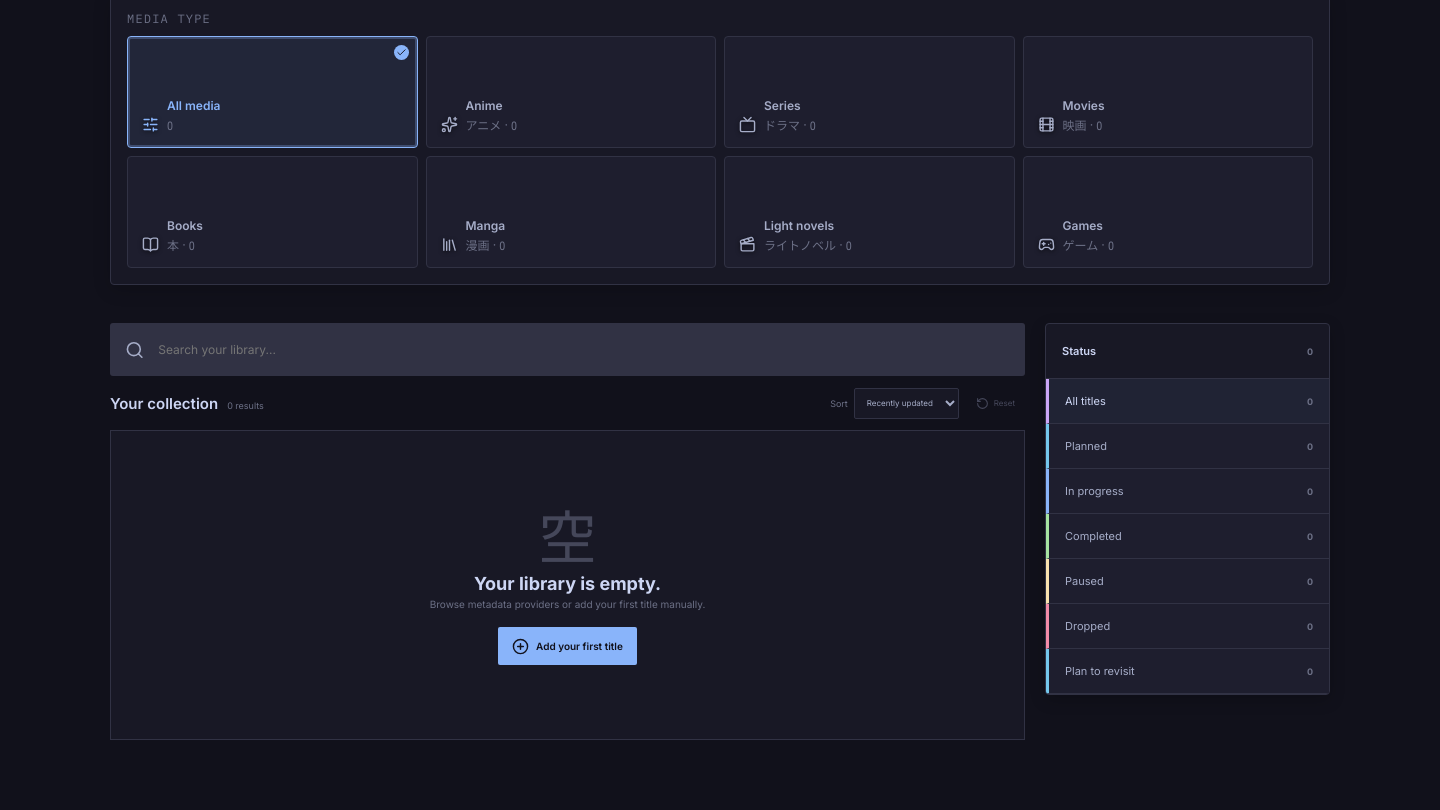
Test case: Library characterization › preserves empty-state and manual-add entry behavior
(page scrolled)
Expected: the heading "Your library is empty." is shown, x1=474 y1=573 x2=661 y2=594
Click the button "Add your first title": (568, 646) x1=498 y1=627 x2=637 y2=665
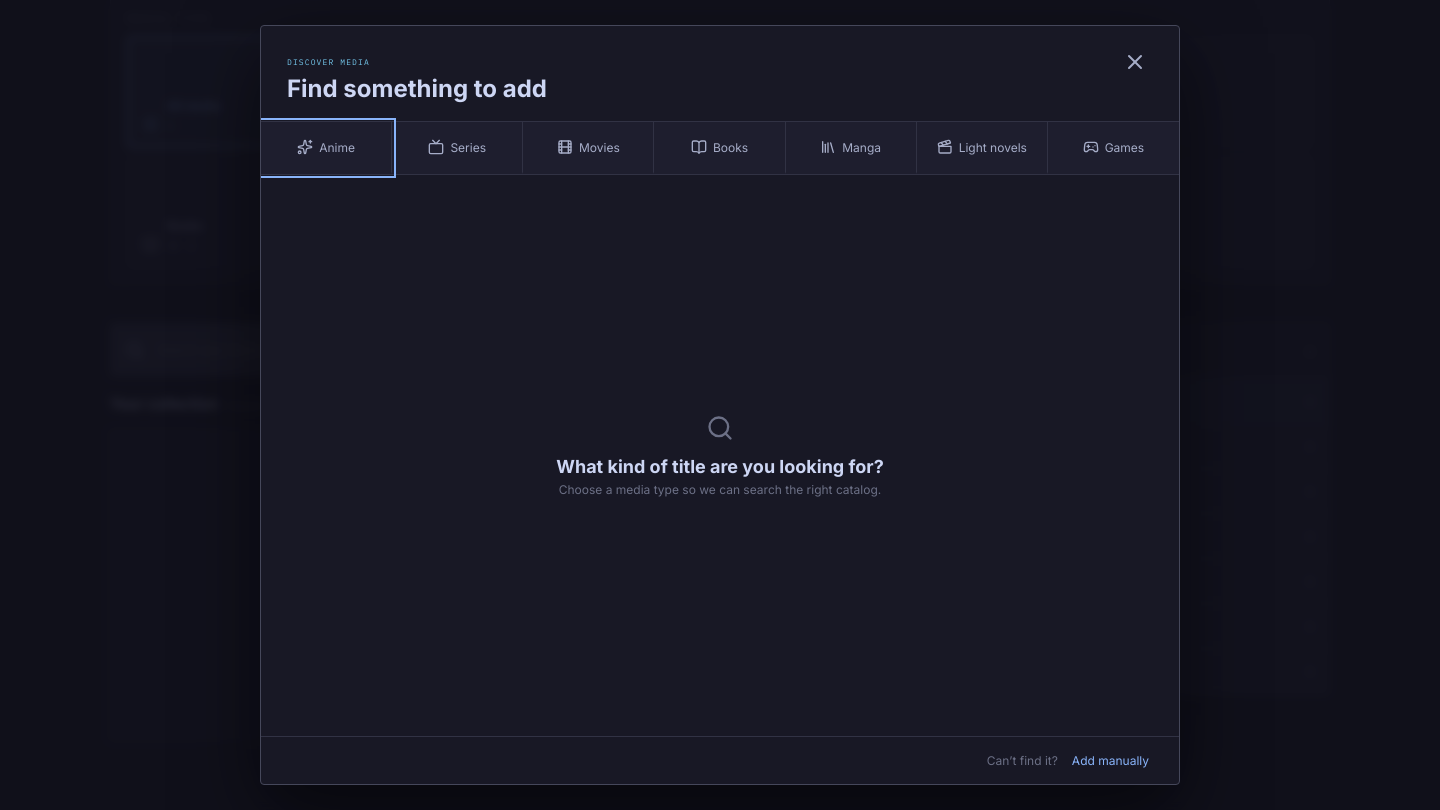
Expected: the dialog "Find something to add" is shown, x1=260 y1=25 x2=1180 y2=785
Click the button "Add manually": (1110, 760) x1=1066 y1=752 x2=1155 y2=769
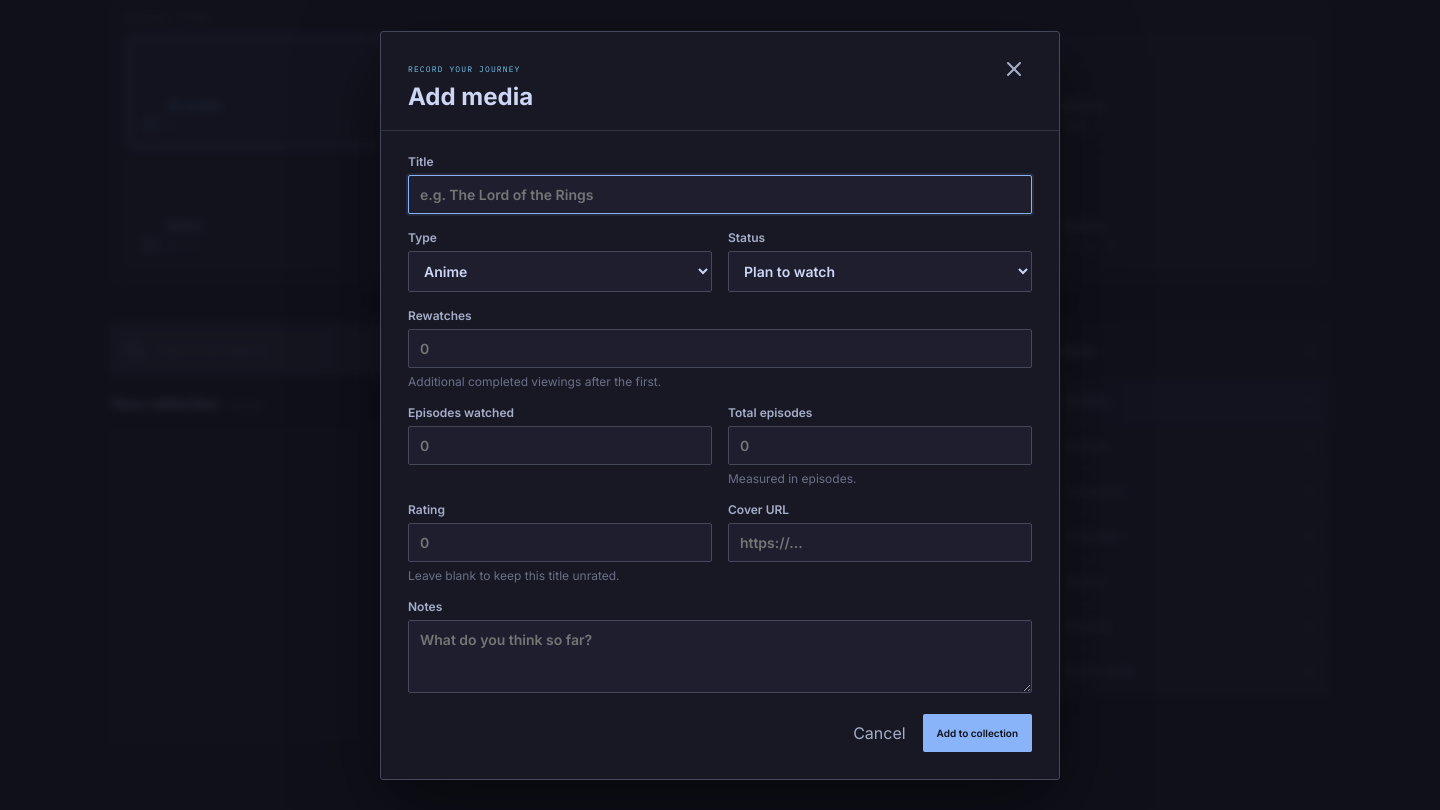
Expected: the dialog "Add media" is shown, x1=380 y1=30 x2=1060 y2=780
